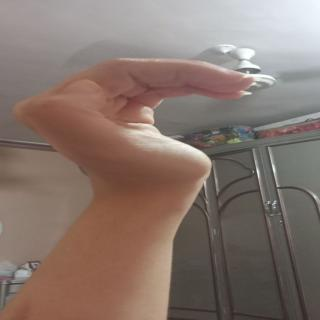HAA: (13, 54, 298, 197)
